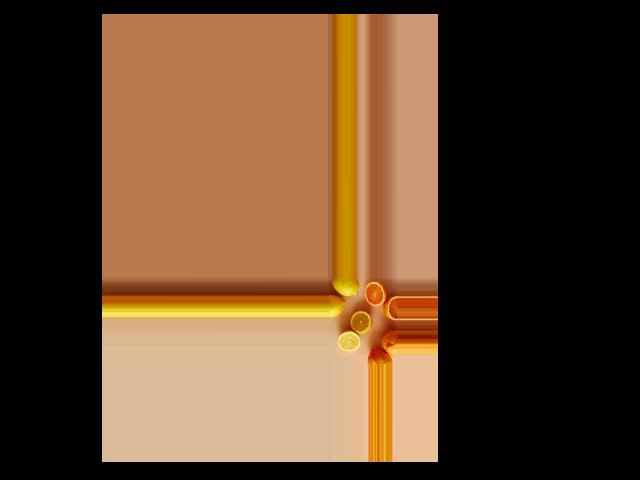lemon: (366, 345, 394, 364)
